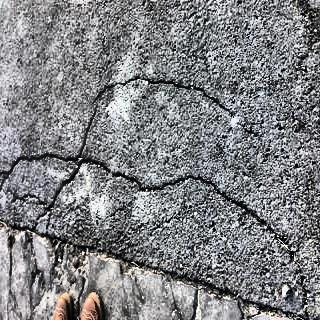crack: (173, 166, 319, 306), (2, 135, 164, 241), (72, 74, 266, 154)
